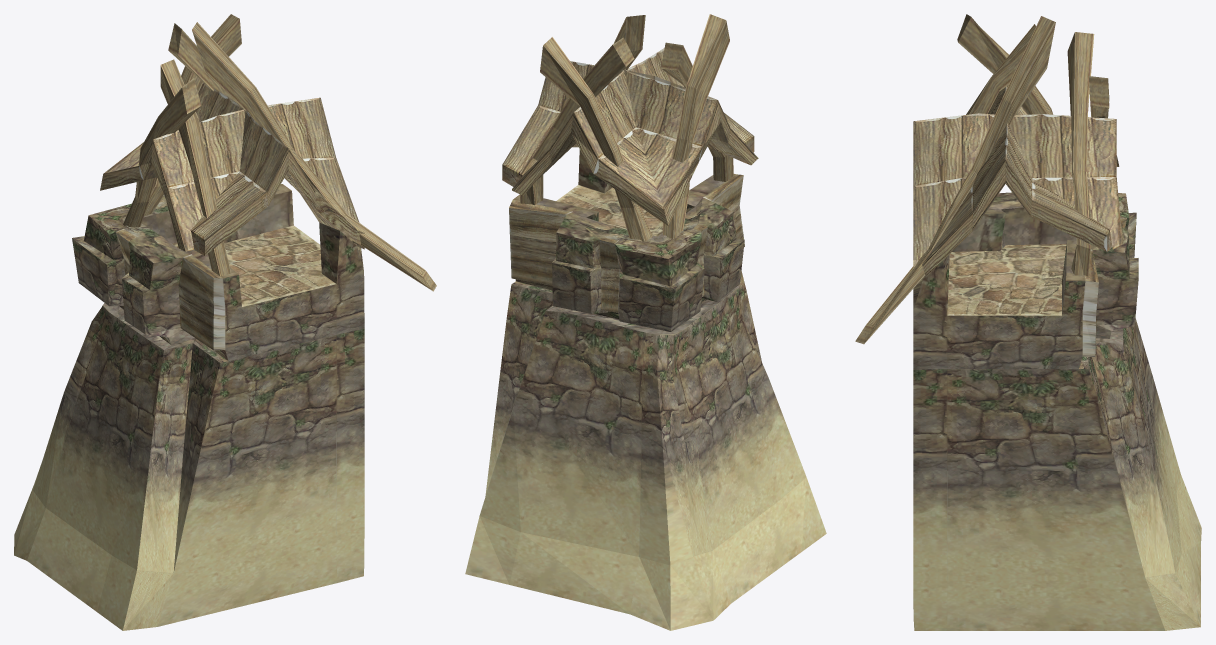
The model's file is C3SMWA10LB_H.obj.
The picture shows the model from 3 angles, left to right: view 1: azimuth 30°, elevation 25°; view 2: azimuth 150°, elevation 25°; view 3: azimuth 270°, elevation 25°; orthographic projection. The views are drawn at different scales.
Parts seen in each view (by area): view 1: Node 0; view 2: Node 0; view 3: Node 0.
Part boxes in pixels (bbox=[...]): Node 0: bbox=[14, 14, 436, 630]; Node 0: bbox=[465, 14, 826, 630]; Node 0: bbox=[855, 14, 1201, 630].
Bounding box in the file's own units: 8.99 × 16.09 × 8.96.
2 materials, 2 textured.
